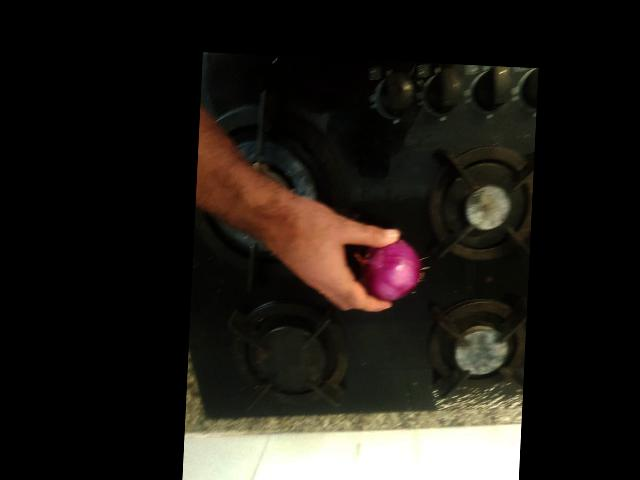onion: (366, 237, 415, 298)
